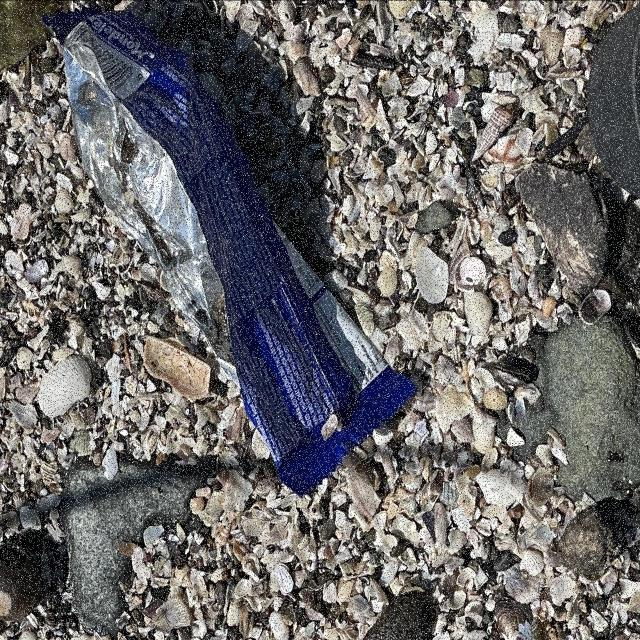plastic_waste: (44, 7, 423, 492)
